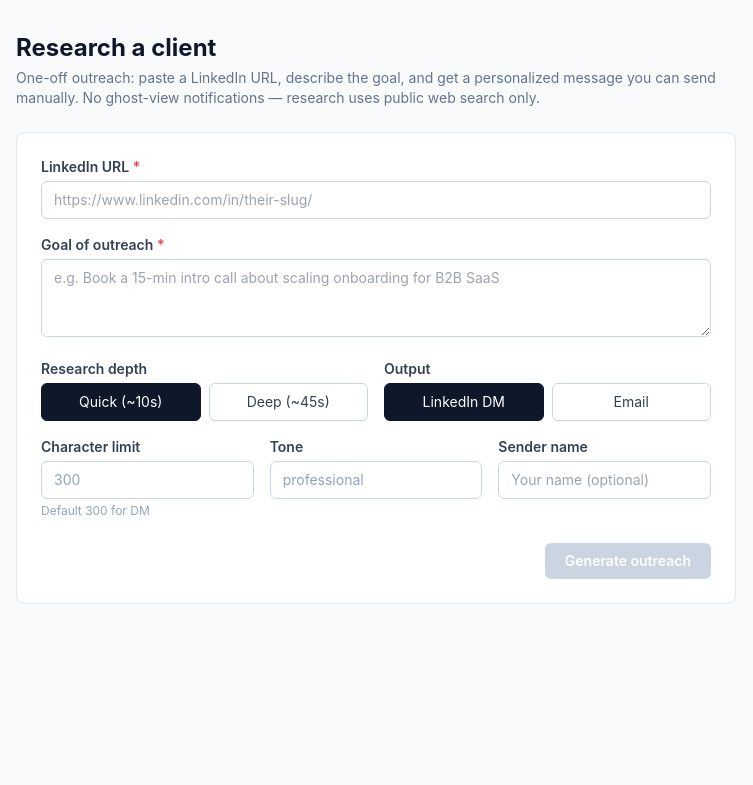
it: ResearchClient page › submits the form and renders the composed message
Type "https://www.linkedin.com/in/jane-doe/" into the field with test id "input-linkedin-url" at [376, 200], box [41,181,711,219]
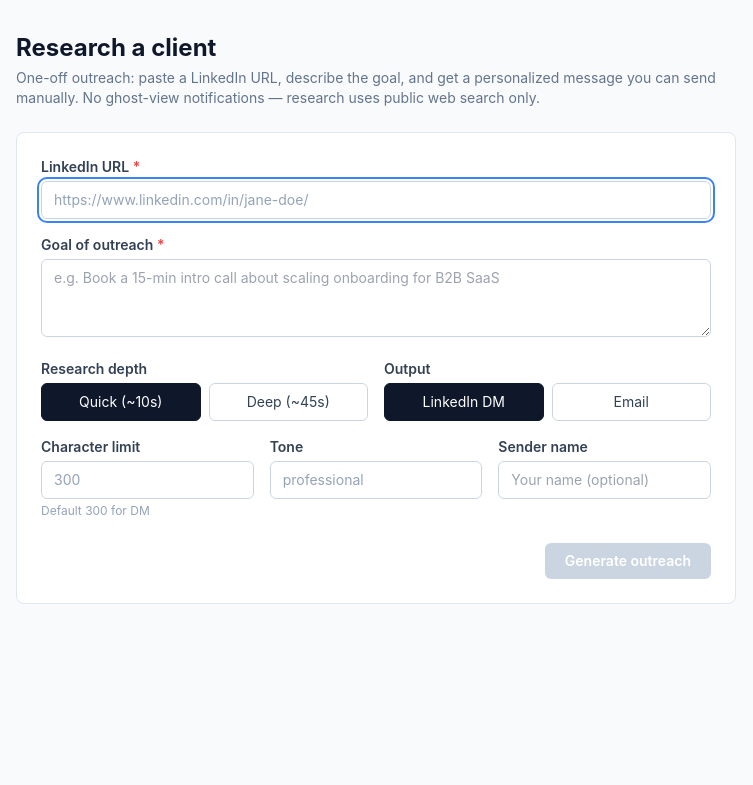
Type "Book a discovery call" into the text box with test id "input-goal" at [376, 298], box [41,259,711,337]
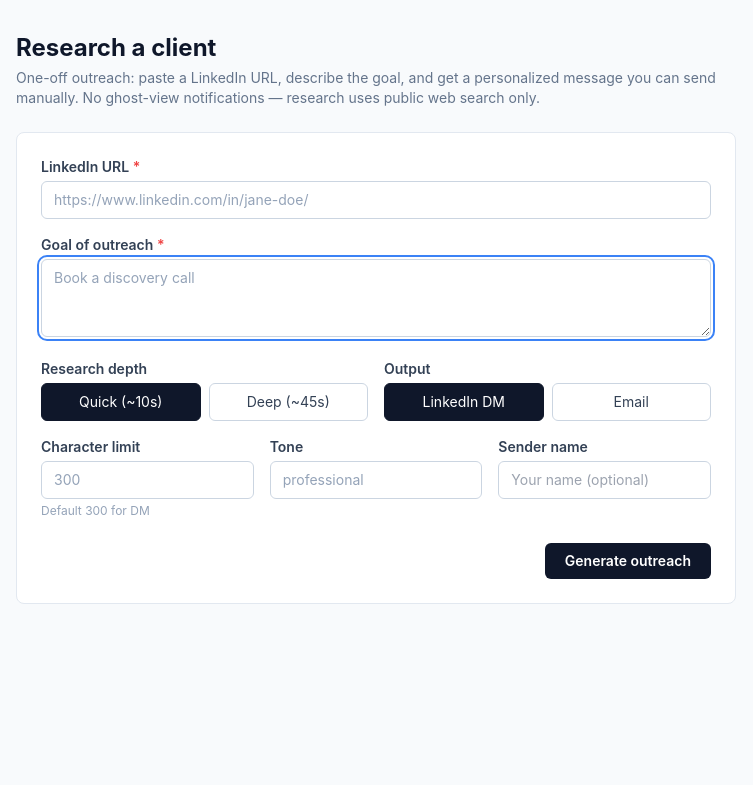
Click the button with test id "submit-research" at [628, 561], box [545,543,711,579]
(page scrolled)
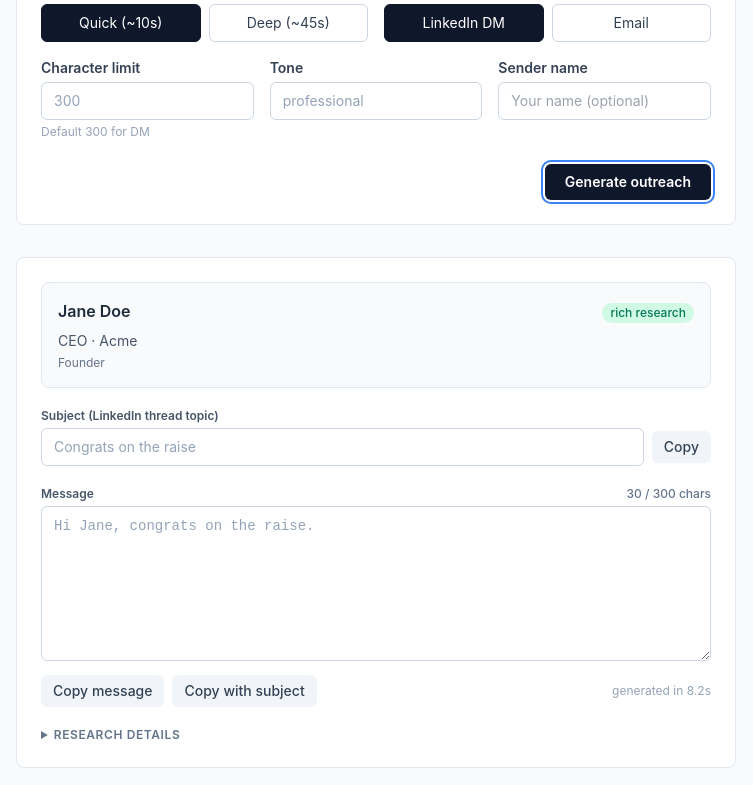
Result: the element with test id "result-panel" is shown at [41,282,711,742]
Result: the text box with test id "result-body" holds "Hi Jane, congrats on the raise." at [41,506,711,660]
Result: the field with test id "result-subject" holds "Congrats on the raise" at [41,428,644,466]
